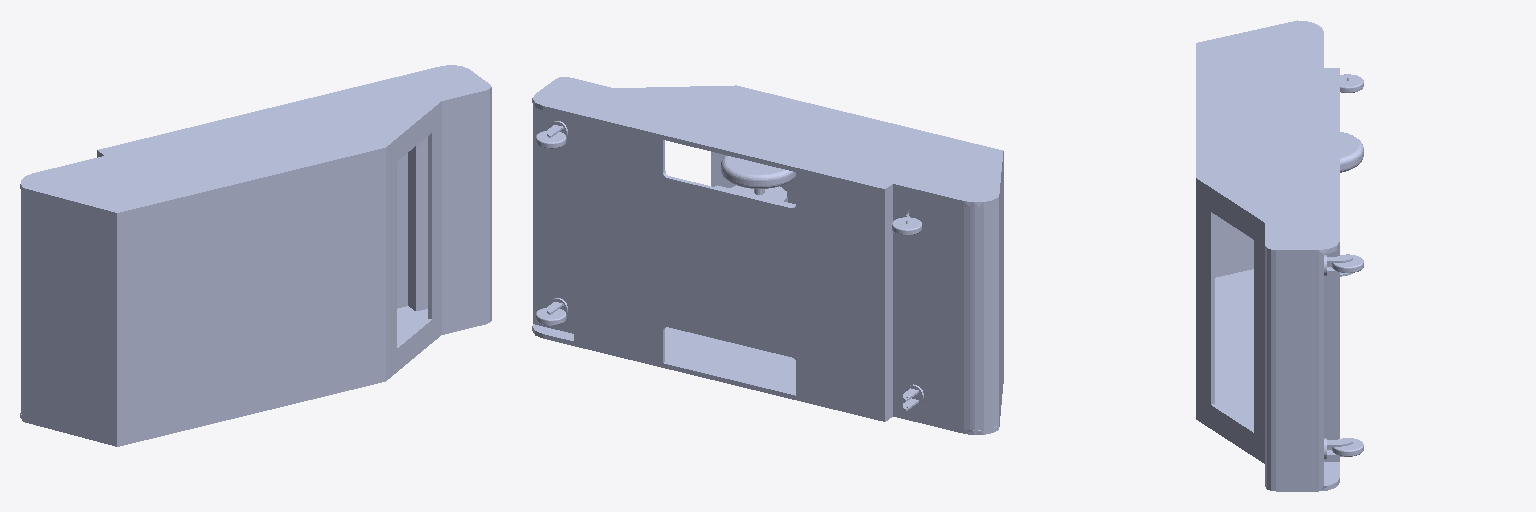
robot.urdf — agv4_varo:
<?xml version="1.0" encoding="utf-8"?>
<!-- This URDF was automatically created by SolidWorks to URDF Exporter! Originally created by [author] ([email redacted]) 
     Commit Version: 1.6.0-1-g15f4949  Build Version: 1.6.7594.29634
     For more information, please see http://wiki.ros.org/sw_urdf_exporter -->
<robot
  name="agv4_varo">
  <link
    name="base_link">
    <inertial>
      <origin
        xyz="0.735384756468467 0.558852738423822 0.517616471236747"
        rpy="0 0 0" />
      <mass
        value="14.1869508369142" />
      <inertia
        ixx="0.588462273329023"
        ixy="-1.04590253681186E-08"
        ixz="0.0697327503182638"
        iyy="1.47677539724383"
        iyz="9.62796663893039E-10"
        izz="1.79873438535669" />
    </inertial>
    <visual>
      <origin
        xyz="0 0 0"
        rpy="0 0 0" />
      <geometry>
        <mesh
          filename="package://agv4_varo/meshes/base_link.STL" />
      </geometry>
      <material
        name="">
        <color
          rgba="0.792156862745098 0.819607843137255 0.933333333333333 1" />
      </material>
    </visual>
    <collision>
      <origin
        xyz="0 0 0"
        rpy="0 0 0" />
      <geometry>
        <mesh
          filename="package://agv4_varo/meshes/base_link.STL" />
      </geometry>
    </collision>
  </link>
  <link
    name="Left_Link">
    <inertial>
      <origin
        xyz="0 -0.016602338839462 -1.66533453693773E-16"
        rpy="0 0 0" />
      <mass
        value="0.52936994072617" />
      <inertia
        ixx="0.000772904303756457"
        ixy="-8.70667323830793E-20"
        ixz="-3.67109231972611E-34"
        iyy="0.0013878620871552"
        iyz="6.44417065836E-18"
        izz="0.000772904303756456" />
    </inertial>
    <visual>
      <origin
        xyz="0 0 0"
        rpy="0 0 0" />
      <geometry>
        <mesh
          filename="package://agv4_varo/meshes/Left_Link.STL" />
      </geometry>
      <material
        name="">
        <color
          rgba="0.792156862745098 0.819607843137255 0.933333333333333 1" />
      </material>
    </visual>
    <collision>
      <origin
        xyz="0 0 0"
        rpy="0 0 0" />
      <geometry>
        <mesh
          filename="package://agv4_varo/meshes/Left_Link.STL" />
      </geometry>
    </collision>
  </link>
  <joint
    name="Left_Joint"
    type="continuous">
    <origin
      xyz="0.7477 -0.43534 0.78885"
      rpy="1.5708 0 0" />
    <parent
      link="base_link" />
    <child
      link="Left_Link" />
    <axis
      xyz="0 1 0" />
  </joint>
  <link
    name="Right_Link">
    <inertial>
      <origin
        xyz="-5.55111512312578E-16 0.016602338839462 -4.49640324973188E-15"
        rpy="0 0 0" />
      <mass
        value="0.529369940726169" />
      <inertia
        ixx="0.000772904303756456"
        ixy="8.70716048896513E-20"
        ixz="1.91778702835882E-34"
        iyy="0.0013878620871552"
        iyz="2.16984719145409E-18"
        izz="0.000772904303756456" />
    </inertial>
    <visual>
      <origin
        xyz="0 0 0"
        rpy="0 0 0" />
      <geometry>
        <mesh
          filename="package://agv4_varo/meshes/Right_Link.STL" />
      </geometry>
      <material
        name="">
        <color
          rgba="0.792156862745098 0.819607843137255 0.933333333333333 1" />
      </material>
    </visual>
    <collision>
      <origin
        xyz="0 0 0"
        rpy="0 0 0" />
      <geometry>
        <mesh
          filename="package://agv4_varo/meshes/Right_Link.STL" />
      </geometry>
    </collision>
  </link>
  <joint
    name="Right_Joint"
    type="continuous">
    <origin
      xyz="0.7477 -0.43534 0.32885"
      rpy="1.5708 0 0" />
    <parent
      link="base_link" />
    <child
      link="Right_Link" />
    <axis
      xyz="0 1 0" />
  </joint>
  <link
    name="LFcon_Link">
    <inertial>
      <origin
        xyz="-0.00121269193407092 0 -0.000415480513364208"
        rpy="0 0 0" />
      <mass
        value="0.0257521038737953" />
      <inertia
        ixx="8.61473826778216E-06"
        ixy="5.73987347316221E-21"
        ixz="-5.64302073523239E-07"
        iyy="8.11210346787567E-06"
        iyz="-2.28887866781496E-21"
        izz="4.80769500241318E-06" />
    </inertial>
    <visual>
      <origin
        xyz="0 0 0"
        rpy="0 0 0" />
      <geometry>
        <mesh
          filename="package://agv4_varo/meshes/LFcon_Link.STL" />
      </geometry>
      <material
        name="">
        <color
          rgba="0.792156862745098 0.819607843137255 0.933333333333333 1" />
      </material>
    </visual>
    <collision>
      <origin
        xyz="0 0 0"
        rpy="0 0 0" />
      <geometry>
        <mesh
          filename="package://agv4_varo/meshes/LFcon_Link.STL" />
      </geometry>
    </collision>
  </link>
  <joint
    name="LFcon_Joint"
    type="continuous">
    <origin
      xyz="1.1981 -0.43034 0.74885"
      rpy="1.5708 0 0" />
    <parent
      link="base_link" />
    <child
      link="LFcon_Link" />
    <axis
      xyz="0 0 1" />
  </joint>
  <link
    name="LF_Link">
    <inertial>
      <origin
        xyz="0 -0.00649999999999995 -5.55111512312578E-17"
        rpy="0 0 0" />
      <mass
        value="0.0364111988779923" />
      <inertia
        ixx="8.56927811367131E-06"
        ixy="3.7519810031877E-25"
        ixz="2.71902666684233E-37"
        iyy="1.61103246905048E-05"
        iyz="2.54747297031203E-20"
        izz="8.56927811367131E-06" />
    </inertial>
    <visual>
      <origin
        xyz="0 0 0"
        rpy="0 0 0" />
      <geometry>
        <mesh
          filename="package://agv4_varo/meshes/LF_Link.STL" />
      </geometry>
      <material
        name="">
        <color
          rgba="0.792156862745098 0.819607843137255 0.933333333333333 1" />
      </material>
    </visual>
    <collision>
      <origin
        xyz="0 0 0"
        rpy="0 0 0" />
      <geometry>
        <mesh
          filename="package://agv4_varo/meshes/LF_Link.STL" />
      </geometry>
    </collision>
  </link>
  <joint
    name="LF_Joint"
    type="continuous">
    <origin
      xyz="-0.0078639 0.0065 -0.04"
      rpy="0 0 0" />
    <parent
      link="LFcon_Link" />
    <child
      link="LF_Link" />
    <axis
      xyz="0 1 0" />
  </joint>
  <link
    name="RFcon_Link">
    <inertial>
      <origin
        xyz="-0.00121269193407092 0 -0.000415480513364208"
        rpy="0 0 0" />
      <mass
        value="0.0257521038737953" />
      <inertia
        ixx="8.61473826778216E-06"
        ixy="5.32690604641113E-21"
        ixz="-5.6430207352324E-07"
        iyy="8.11210346787568E-06"
        iyz="-1.80308410426961E-21"
        izz="4.80769500241318E-06" />
    </inertial>
    <visual>
      <origin
        xyz="0 0 0"
        rpy="0 0 0" />
      <geometry>
        <mesh
          filename="package://agv4_varo/meshes/RFcon_Link.STL" />
      </geometry>
      <material
        name="">
        <color
          rgba="0.792156862745098 0.819607843137255 0.933333333333333 1" />
      </material>
    </visual>
    <collision>
      <origin
        xyz="0 0 0"
        rpy="0 0 0" />
      <geometry>
        <mesh
          filename="package://agv4_varo/meshes/RFcon_Link.STL" />
      </geometry>
    </collision>
  </link>
  <joint
    name="RFcon_Joint"
    type="continuous">
    <origin
      xyz="1.1981 -0.43034 0.36885"
      rpy="1.5708 0 0" />
    <parent
      link="base_link" />
    <child
      link="RFcon_Link" />
    <axis
      xyz="0 0 1" />
  </joint>
  <link
    name="RF_Link">
    <inertial>
      <origin
        xyz="-2.22044604925031E-16 0.00650000000000001 5.55111512312578E-17"
        rpy="0 0 0" />
      <mass
        value="0.0364111988779923" />
      <inertia
        ixx="8.56927811367131E-06"
        ixy="1.67531682123137E-26"
        ixz="1.3747174277631E-38"
        iyy="1.61103246905048E-05"
        iyz="2.54747297031203E-20"
        izz="8.56927811367131E-06" />
    </inertial>
    <visual>
      <origin
        xyz="0 0 0"
        rpy="0 0 0" />
      <geometry>
        <mesh
          filename="package://agv4_varo/meshes/RF_Link.STL" />
      </geometry>
      <material
        name="">
        <color
          rgba="0.792156862745098 0.819607843137255 0.933333333333333 1" />
      </material>
    </visual>
    <collision>
      <origin
        xyz="0 0 0"
        rpy="0 0 0" />
      <geometry>
        <mesh
          filename="package://agv4_varo/meshes/RF_Link.STL" />
      </geometry>
    </collision>
  </link>
  <joint
    name="RF_Joint"
    type="continuous">
    <origin
      xyz="-0.0078639 -0.0065 -0.04"
      rpy="0 0 0" />
    <parent
      link="RFcon_Link" />
    <child
      link="RF_Link" />
    <axis
      xyz="0 1 0" />
  </joint>
  <link
    name="LBcon_Link">
    <inertial>
      <origin
        xyz="-0.00121269193407098 0 -0.000415480513364208"
        rpy="0 0 0" />
      <mass
        value="0.0257521038737953" />
      <inertia
        ixx="8.6147382677822E-06"
        ixy="4.02553382122606E-21"
        ixz="-5.64302073523249E-07"
        iyy="8.11210346787572E-06"
        iyz="-1.00372969402135E-20"
        izz="4.80769500241318E-06" />
    </inertial>
    <visual>
      <origin
        xyz="0 0 0"
        rpy="0 0 0" />
      <geometry>
        <mesh
          filename="package://agv4_varo/meshes/LBcon_Link.STL" />
      </geometry>
      <material
        name="">
        <color
          rgba="0.792156862745098 0.819607843137255 0.933333333333333 1" />
      </material>
    </visual>
    <collision>
      <origin
        xyz="0 0 0"
        rpy="0 0 0" />
      <geometry>
        <mesh
          filename="package://agv4_varo/meshes/LBcon_Link.STL" />
      </geometry>
    </collision>
  </link>
  <joint
    name="LBcon_Joint"
    type="continuous">
    <origin
      xyz="0.39806 -0.43034 0.74885"
      rpy="1.5708 0 0" />
    <parent
      link="base_link" />
    <child
      link="LBcon_Link" />
    <axis
      xyz="0 0 1" />
  </joint>
  <link
    name="LB_Link">
    <inertial>
      <origin
        xyz="0 -0.00649999999999995 0"
        rpy="0 0 0" />
      <mass
        value="0.0364111988779923" />
      <inertia
        ixx="8.56927811367131E-06"
        ixy="-3.41691763893474E-25"
        ixz="1.37471742776323E-38"
        iyy="1.61103246905048E-05"
        iyz="2.54747297031203E-20"
        izz="8.56927811367131E-06" />
    </inertial>
    <visual>
      <origin
        xyz="0 0 0"
        rpy="0 0 0" />
      <geometry>
        <mesh
          filename="package://agv4_varo/meshes/LB_Link.STL" />
      </geometry>
      <material
        name="">
        <color
          rgba="0.792156862745098 0.819607843137255 0.933333333333333 1" />
      </material>
    </visual>
    <collision>
      <origin
        xyz="0 0 0"
        rpy="0 0 0" />
      <geometry>
        <mesh
          filename="package://agv4_varo/meshes/LB_Link.STL" />
      </geometry>
    </collision>
  </link>
  <joint
    name="LB_Joint"
    type="continuous">
    <origin
      xyz="-0.0078639 0.0065 -0.04"
      rpy="0 0 0" />
    <parent
      link="LBcon_Link" />
    <child
      link="LB_Link" />
    <axis
      xyz="0 -1 0" />
  </joint>
  <link
    name="RBcon_Link">
    <inertial>
      <origin
        xyz="-0.00121269193407103 0 -0.000415480513364208"
        rpy="0 0 0" />
      <mass
        value="0.0257521038737953" />
      <inertia
        ixx="8.61473826778217E-06"
        ixy="3.62998319919443E-21"
        ixz="-5.64302073523249E-07"
        iyy="8.11210346787568E-06"
        iyz="-1.09996468374281E-20"
        izz="4.80769500241318E-06" />
    </inertial>
    <visual>
      <origin
        xyz="0 0 0"
        rpy="0 0 0" />
      <geometry>
        <mesh
          filename="package://agv4_varo/meshes/RBcon_Link.STL" />
      </geometry>
      <material
        name="">
        <color
          rgba="0.792156862745098 0.819607843137255 0.933333333333333 1" />
      </material>
    </visual>
    <collision>
      <origin
        xyz="0 0 0"
        rpy="0 0 0" />
      <geometry>
        <mesh
          filename="package://agv4_varo/meshes/RBcon_Link.STL" />
      </geometry>
    </collision>
  </link>
  <joint
    name="RBcon_Joint"
    type="continuous">
    <origin
      xyz="0.39806 -0.43034 0.36885"
      rpy="1.5708 0 0" />
    <parent
      link="base_link" />
    <child
      link="RBcon_Link" />
    <axis
      xyz="0 0 1" />
  </joint>
  <link
    name="RB_Link">
    <inertial>
      <origin
        xyz="0 0.00650000000000001 5.55111512312578E-17"
        rpy="0 0 0" />
      <mass
        value="0.0364111988779923" />
      <inertia
        ixx="8.56927811367131E-06"
        ixy="1.67531682123137E-26"
        ixz="2.71902666684231E-37"
        iyy="1.61103246905048E-05"
        iyz="2.54747297031203E-20"
        izz="8.56927811367131E-06" />
    </inertial>
    <visual>
      <origin
        xyz="0 0 0"
        rpy="0 0 0" />
      <geometry>
        <mesh
          filename="package://agv4_varo/meshes/RB_Link.STL" />
      </geometry>
      <material
        name="">
        <color
          rgba="0.792156862745098 0.819607843137255 0.933333333333333 1" />
      </material>
    </visual>
    <collision>
      <origin
        xyz="0 0 0"
        rpy="0 0 0" />
      <geometry>
        <mesh
          filename="package://agv4_varo/meshes/RB_Link.STL" />
      </geometry>
    </collision>
  </link>
  <joint
    name="RB_Joint"
    type="continuous">
    <origin
      xyz="-0.0078639 -0.0065 -0.04"
      rpy="0 0 0" />
    <parent
      link="RBcon_Link" />
    <child
      link="RB_Link" />
    <axis
      xyz="0 -1 0" />
  </joint>
  <gazebo>
    <plugin name="explorer_bot_controller"   filename="libgazebo_ros_diff_drive.so">
        <leftJoint>Left_Joint</leftJoint>
        <rightJoint>Right_Joint</rightJoint>
        <legacyMode>false</legacyMode>
        <robotBaseFrame>base_link</robotBaseFrame>
        <wheelSeparation>0.4</wheelSeparation>
        <wheelDiameter>0.15</wheelDiameter>
        <publishWheelJointState>true</publishWheelJointState>
    </plugin>
    
</gazebo>
   <gazebo>
    <plugin name="joint_state_publisher"
            filename="libgazebo_ros_joint_state_publisher.so">
        <jointName>LF_Joint, RF_Joint, LB_Joint, RB_Joint, RFcon_Joint, RBcon_Joint, LFcon_Joint, LBcon_Joint</jointName>
    </plugin>
</gazebo>
</robot>

--- Facts derived from the render (not from the file) ---
3 views of the same robot in one strip: view 1: azimuth 30°, elevation 25°; view 2: azimuth 150°, elevation 25°; view 3: azimuth 270°, elevation 25° (orthographic).
Model agv4_varo with 11 links and 10 joints (10 continuous), rooted at base_link, posed every joint at zero.
Links seen in each view (by area): view 1: base_link; view 2: base_link, Left_Link; view 3: base_link, Left_Link.
Boxes of the visible links, left/top/right/bottom form: base_link: left=20, top=65, right=491, bottom=446; base_link: left=532, top=77, right=1003, bottom=434; Left_Link: left=721, top=155, right=795, bottom=194; base_link: left=1196, top=20, right=1339, bottom=491; Left_Link: left=1340, top=132, right=1363, bottom=172.
Size in the robot's own frame: 1.02 by 0.315 by 0.5 metres.
8 mesh visuals loaded from 11 distinct referenced files (8 binary STL); not drawn: 3 (reference not matched to a file when rendering).